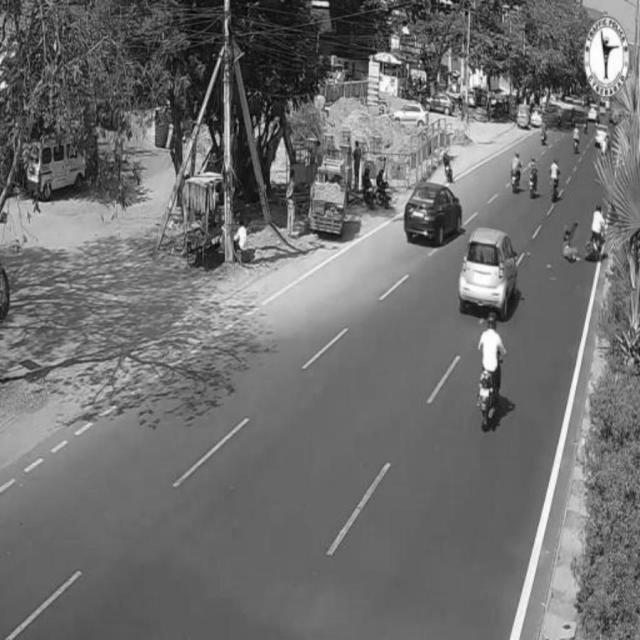person: (561, 221, 585, 265), (287, 170, 297, 240), (352, 140, 362, 196)
vehicle: (460, 227, 521, 317), (402, 179, 463, 249), (476, 314, 504, 434), (588, 208, 608, 262), (525, 156, 539, 206), (549, 156, 561, 206), (511, 148, 521, 199)
